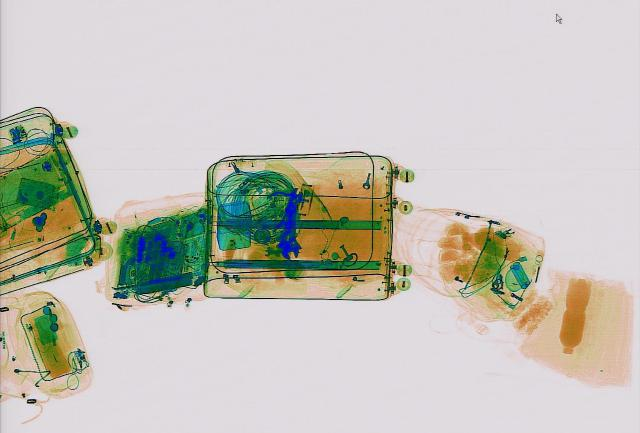Pliers: (242, 182, 320, 229)
Wrench: (280, 192, 302, 257)
